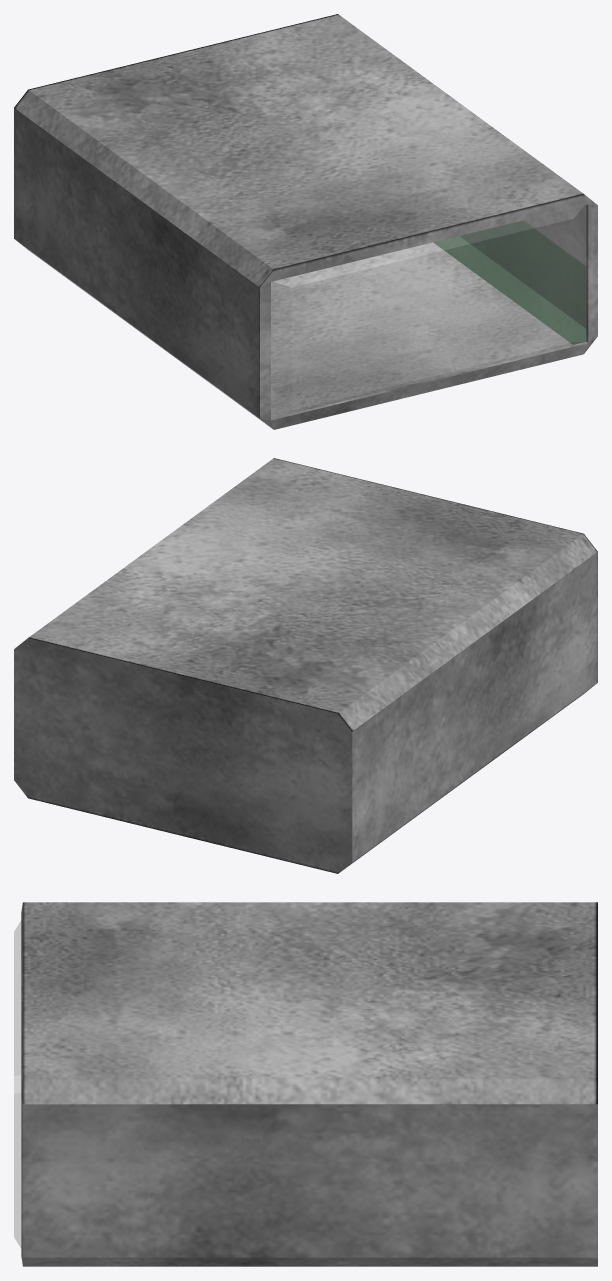
File: Room.fbx
3 renders of one model, top to bottom at view 1: azimuth 30°, elevation 25°; view 2: azimuth 150°, elevation 25°; view 3: azimuth 270°, elevation 25°, orthographic. The views are drawn at different scales.
Visible parts, largest first — view 1: Room, Window; view 2: Room; view 3: Room, Window.
Part boxes in pixels (x1,y1,x2,y2): Room: [14, 14, 597, 429]; Window: [271, 205, 585, 418]; Room: [14, 458, 597, 873]; Room: [21, 902, 597, 1266]; Window: [14, 921, 21, 1247].
Bounding box in the file's own units: 1217 × 551 × 1556.
Materials: 2 (1 with a texture image).
